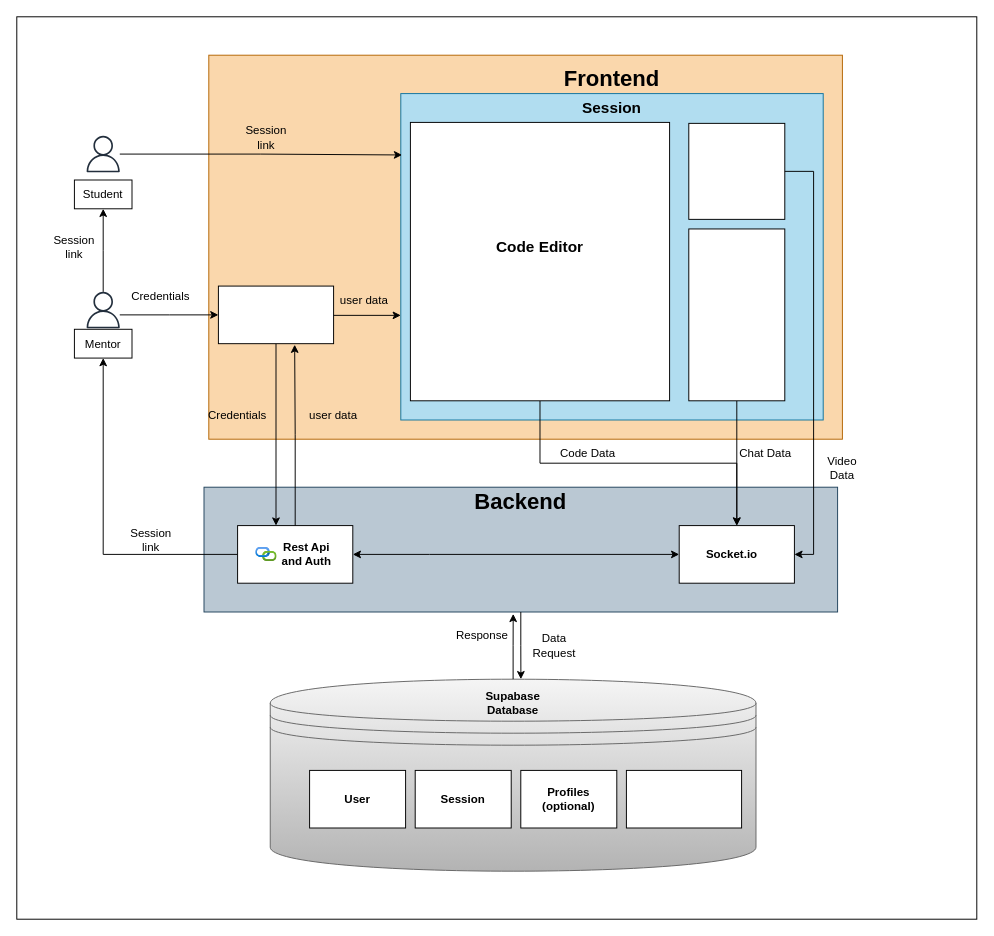
The diagram is 994 pixels wide and 936 high, and some of its shapes have lost their labels. The shapes that lost their labels are listed below. From the top down, each one's centre as x and y in pixels, then its label:
At (x=736, y=170): "Video (WebRtc)".
At (x=275, y=314): "Login / Sign up".
At (x=736, y=314): "Chat".
At (x=683, y=798): "Messages".
